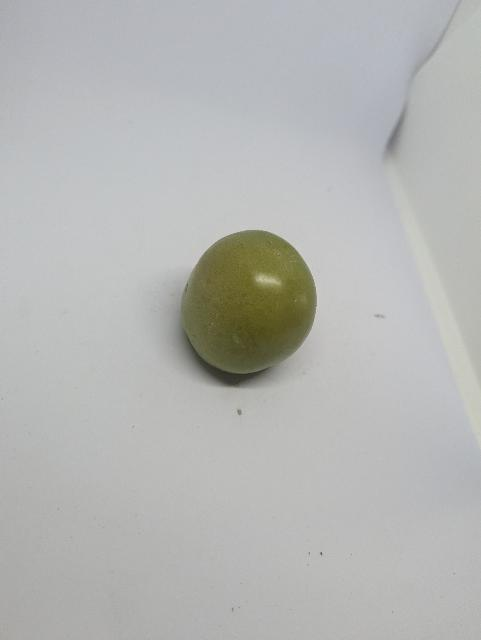green: (173, 213, 325, 395)
